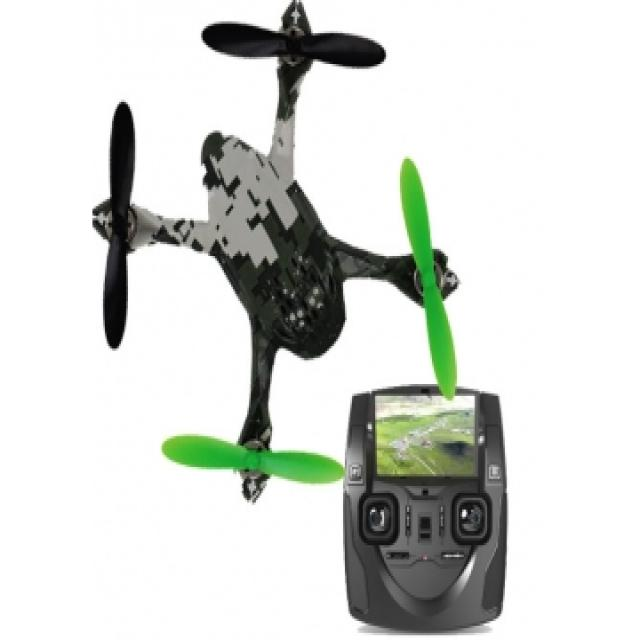drone: (78, 14, 468, 512)
